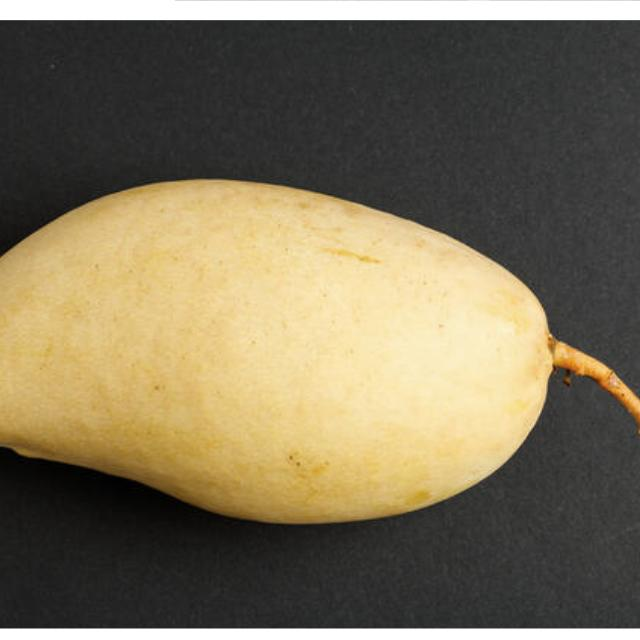mango: (0, 168, 548, 526)
